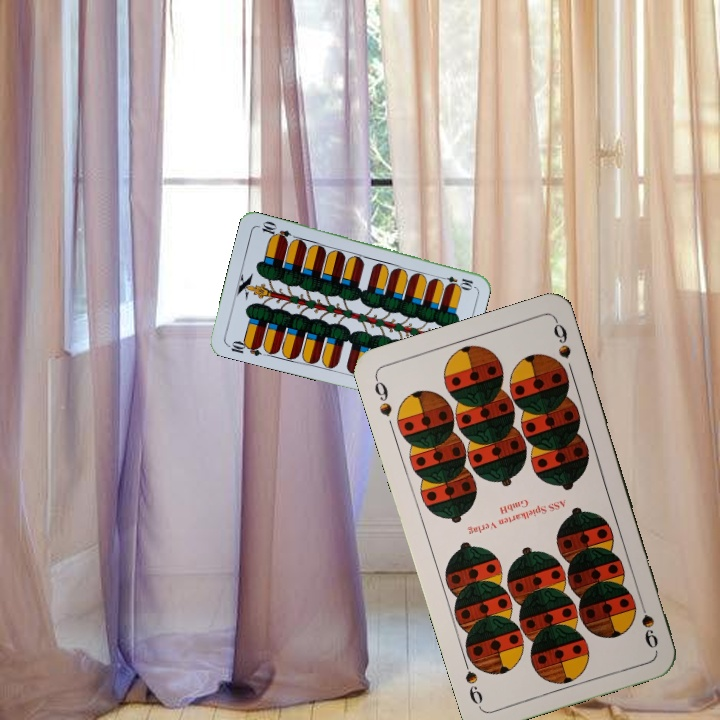E10: (223, 337, 264, 359), (435, 272, 475, 291)
S9: (635, 594, 661, 651), (370, 373, 395, 419)
